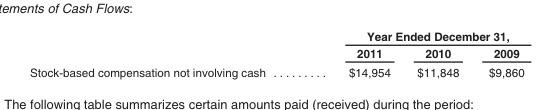table: (29, 28, 523, 78)
table column: (29, 28, 306, 78), (306, 28, 403, 78), (403, 28, 473, 78), (473, 28, 523, 78)
table column header: (29, 28, 523, 62)
table row: (29, 43, 523, 62), (29, 62, 523, 78), (29, 28, 523, 43)
table spanning cell: (306, 28, 523, 43)
